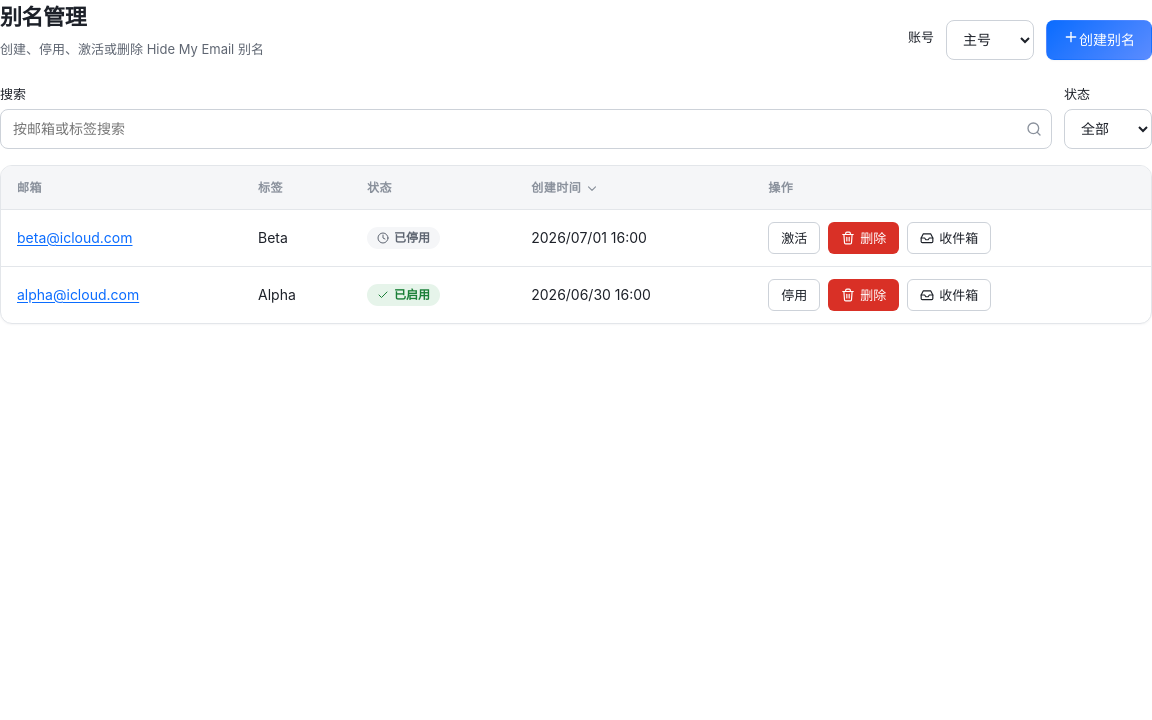
Test case: AliasesPage › 停用别名:显示目标邮箱并二次确认
Check: the button "alpha@icloud.com" is shown, box [17, 284, 139, 307]
Step 1. Click the button "停用" → (794, 295), box [768, 279, 820, 311]
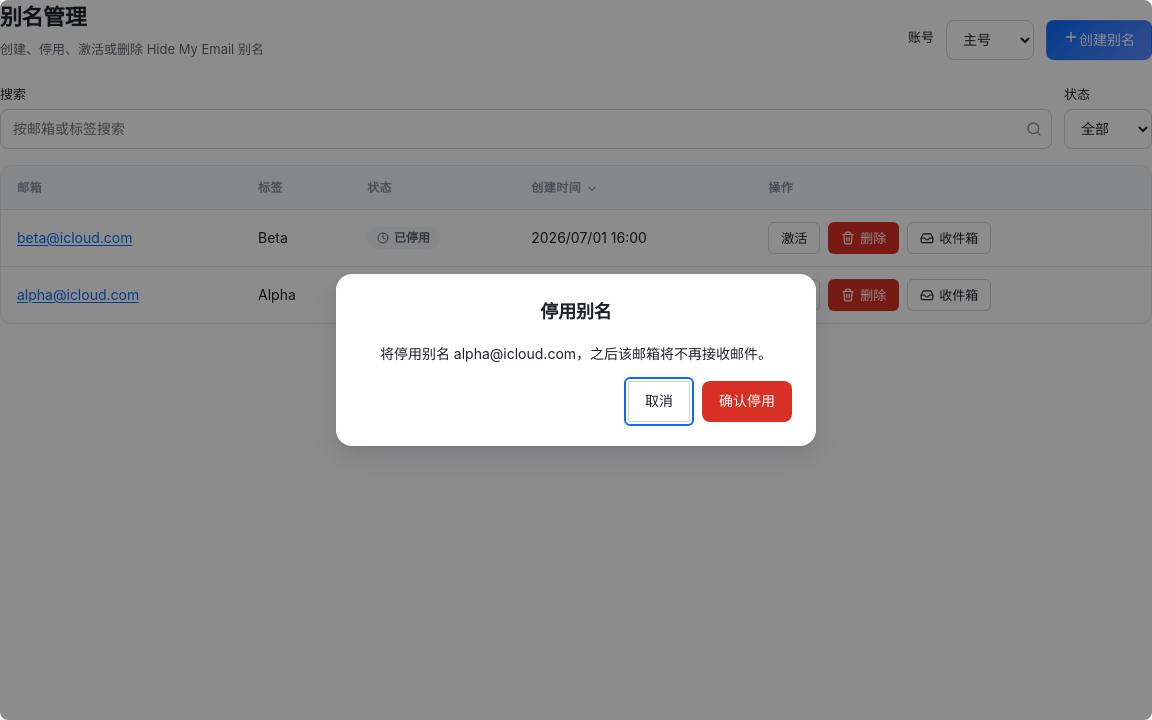
Check: the dialog shows "alpha@icloud.com", box [380, 345, 772, 362]
Step 2. Click the button "确认停用" → (747, 402), box [702, 381, 792, 422]
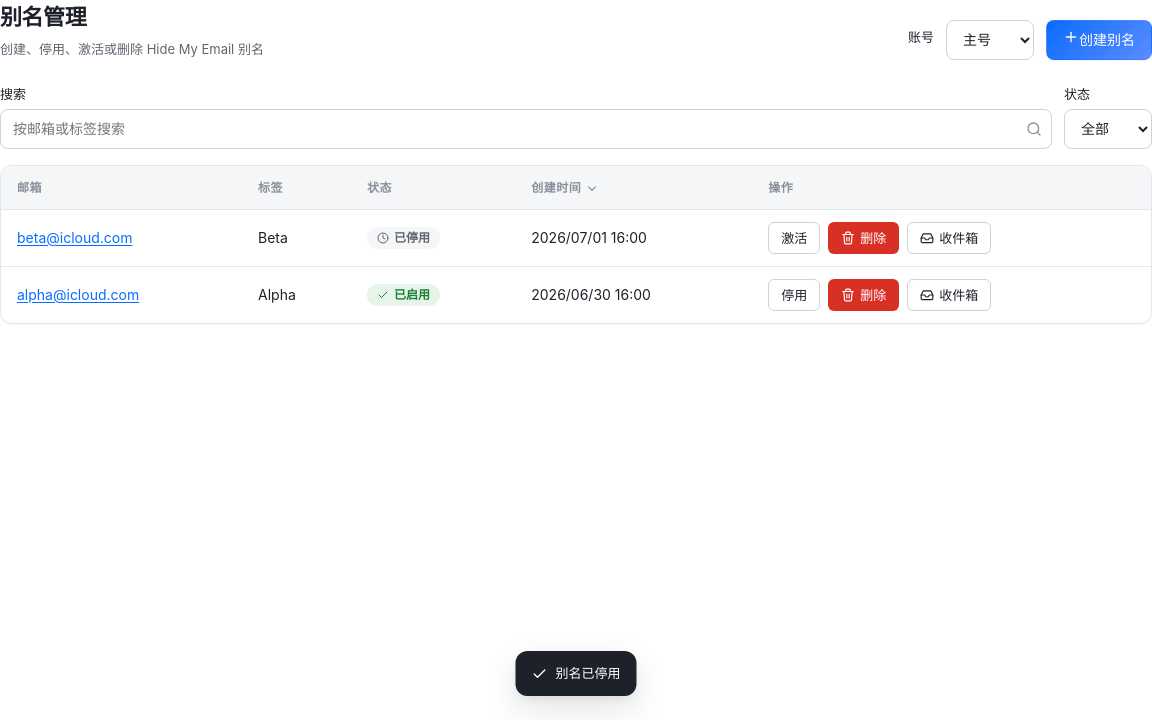
Check: the dialog is gone
